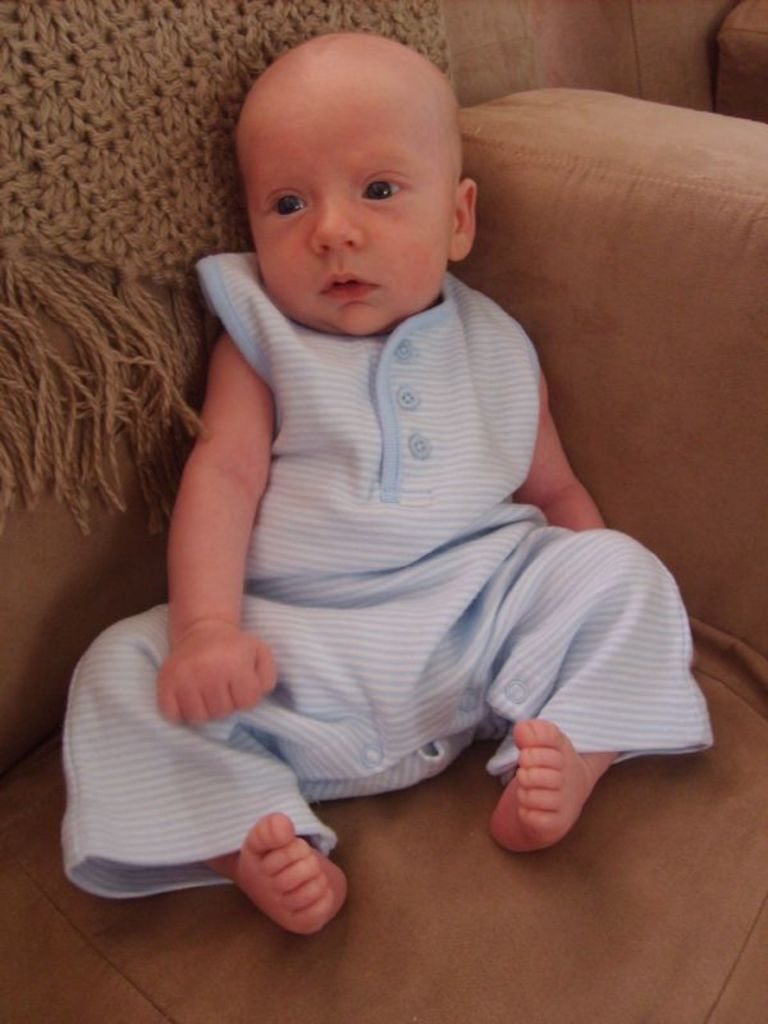Human_hand: (156, 623, 279, 726)
